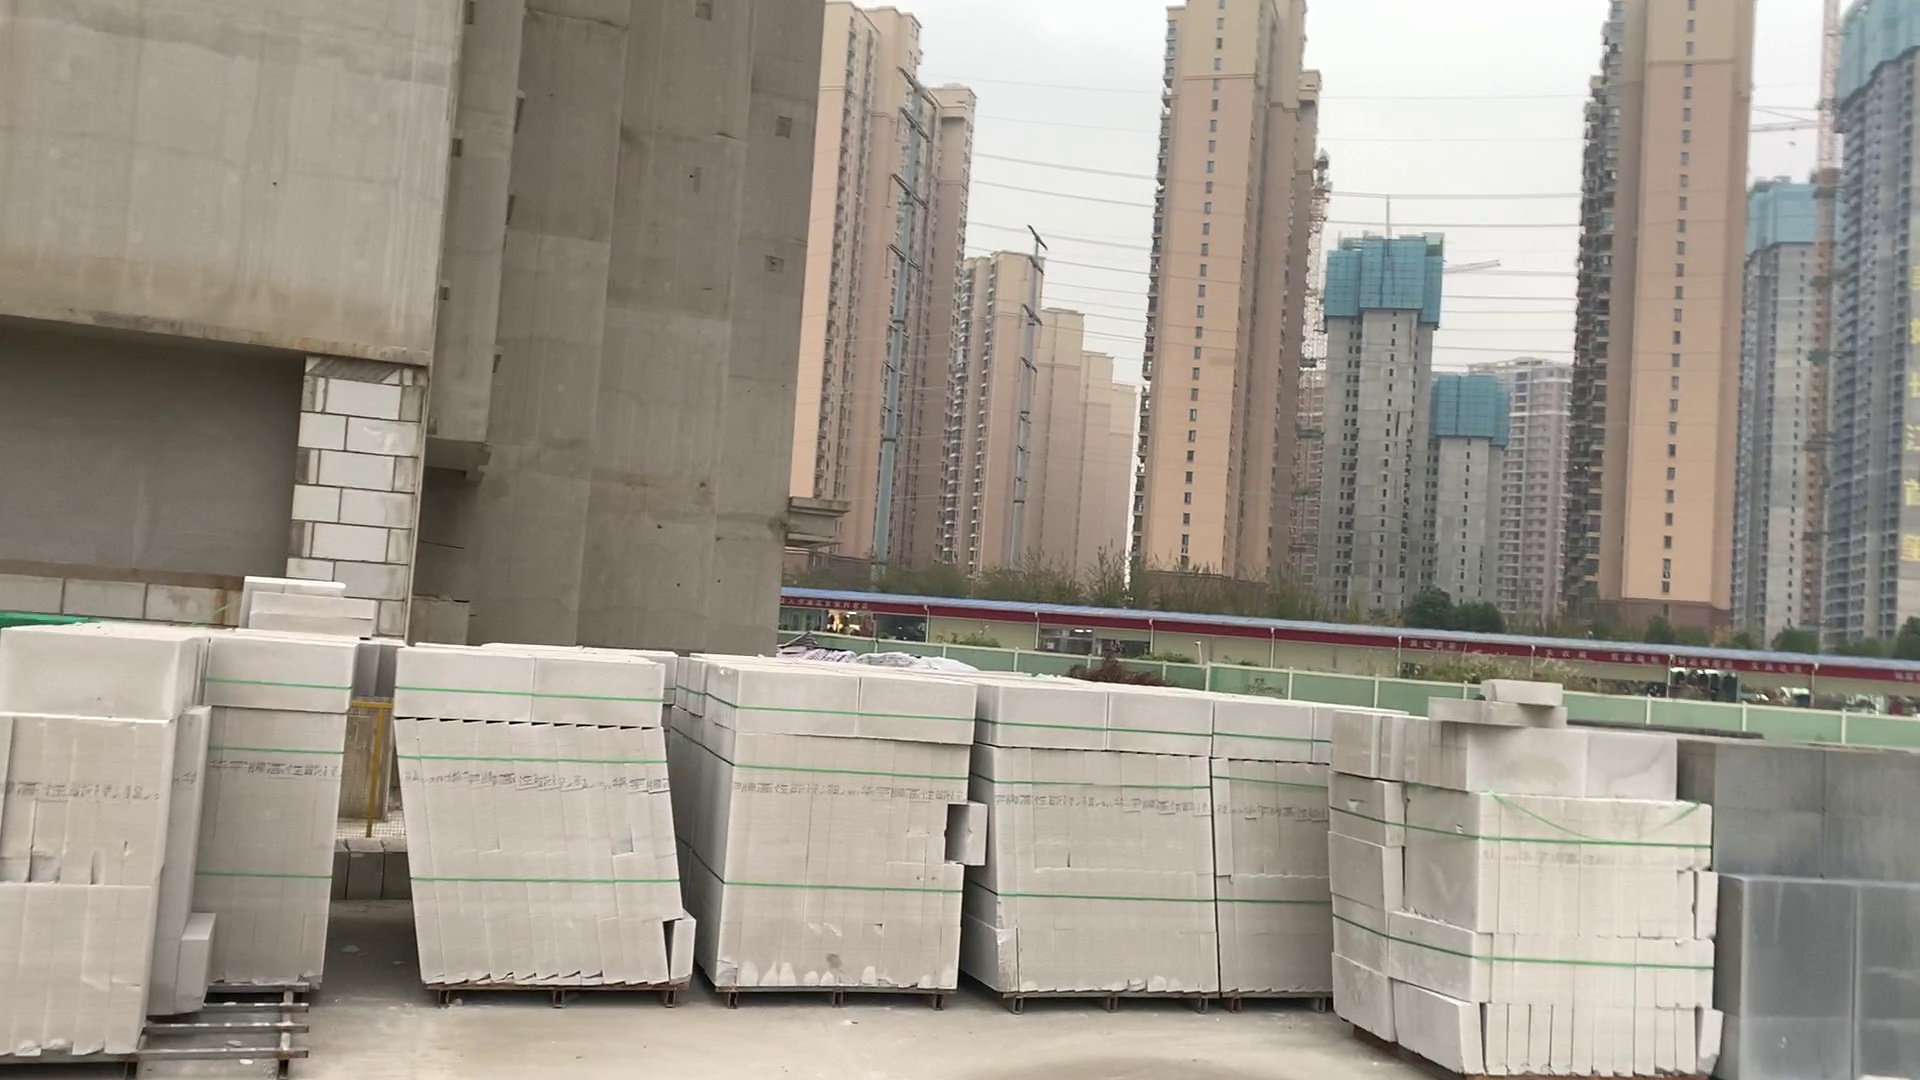brickwork: (3, 632, 352, 1076), (1341, 700, 1718, 1080), (386, 647, 698, 1007), (707, 665, 975, 1004), (981, 684, 1224, 1011), (1697, 729, 1917, 1080), (1218, 703, 1338, 1000)
